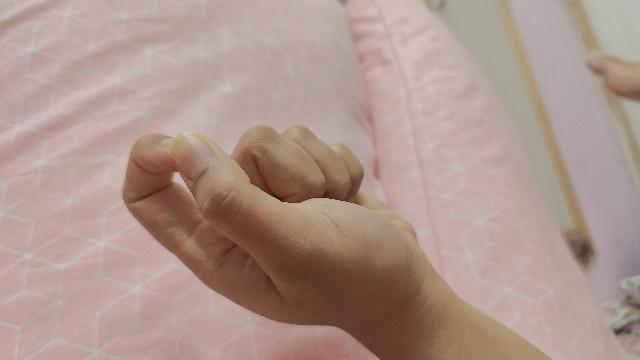kapitth: (121, 128, 552, 360)
